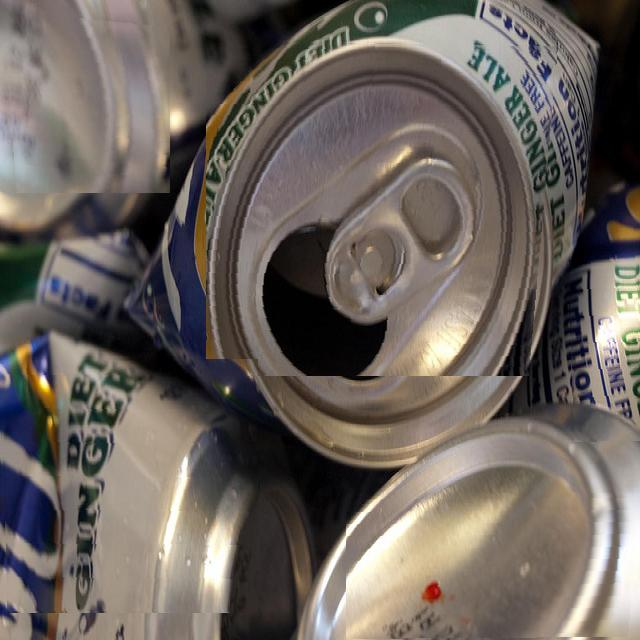Cans: (206, 41, 558, 376), (0, 357, 258, 613), (346, 493, 640, 639), (2, 10, 170, 193), (567, 248, 640, 442)
